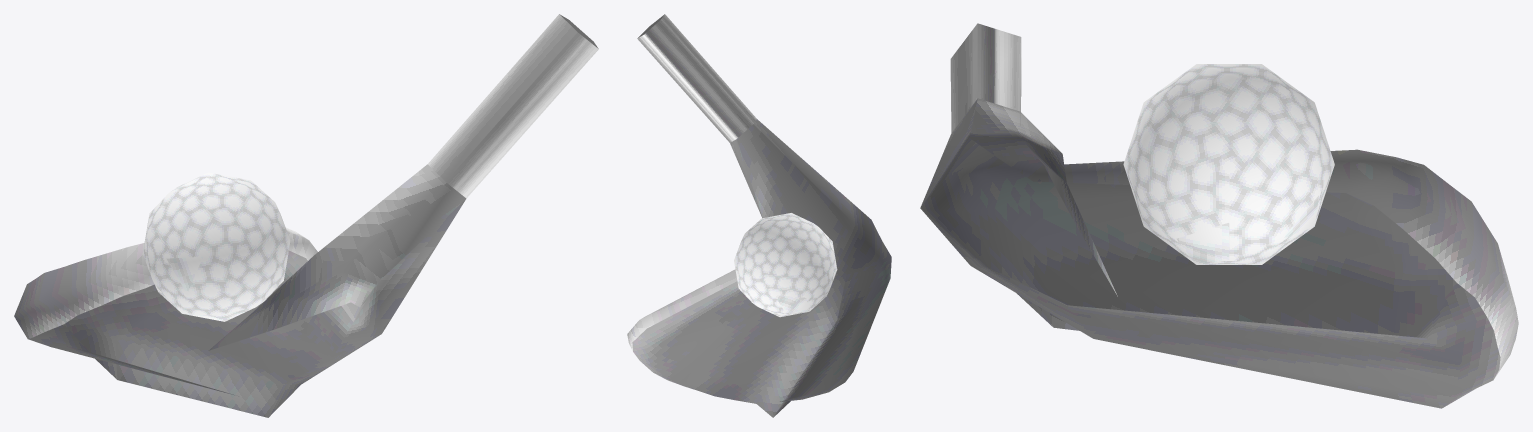
File: ps2_save-icons_tigerwoodspgatour2001.glb
3 views of the same model, side by side, from view 1: azimuth 30°, elevation 25°; view 2: azimuth 150°, elevation 25°; view 3: azimuth 270°, elevation 25° (orthographic). The views are drawn at different scales.
Parts seen in each view (by area): view 1: golfer1.ico; view 2: golfer1.ico; view 3: golfer1.ico.
Part boxes in pixels (bbox=[...]): golfer1.ico: bbox=[14, 14, 598, 417]; golfer1.ico: bbox=[627, 14, 891, 417]; golfer1.ico: bbox=[920, 23, 1518, 408].
Bounding box in the file's own units: 2.51 × 2.16 × 2.12.
Materials: 1 (1 with a texture image).
